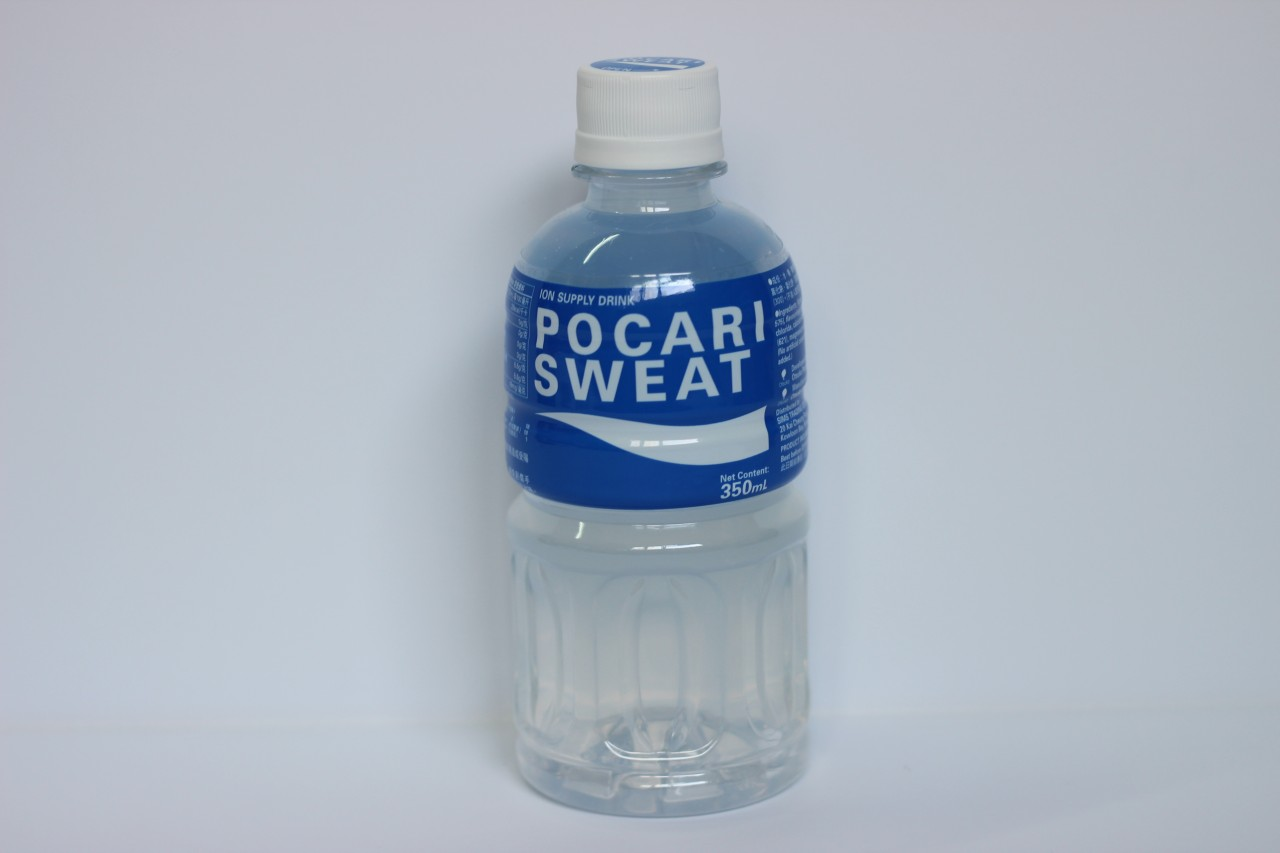POCARI SWEAT: (492, 53, 817, 821)
